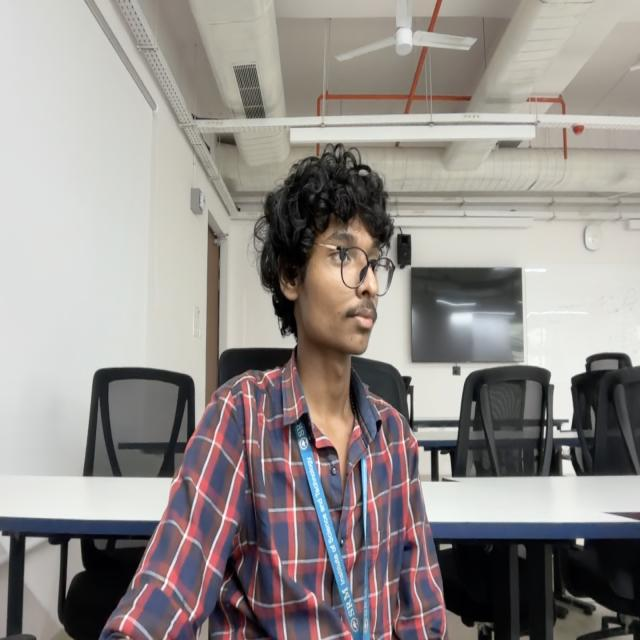darshan: (256, 152, 397, 352)
